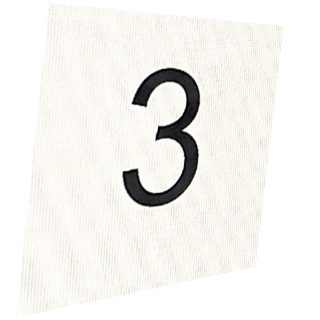three: (118, 62, 202, 208)
